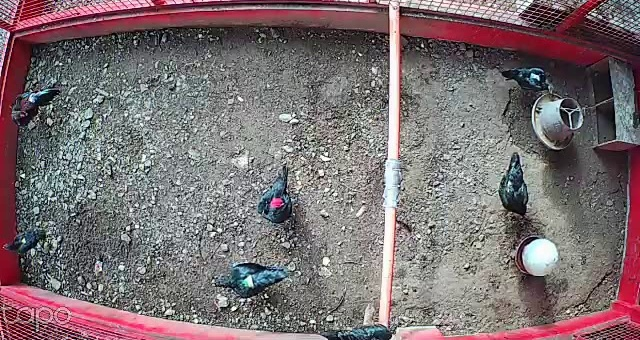Chicken: (208, 257, 289, 302), (252, 157, 300, 222), (497, 147, 533, 230), (496, 60, 558, 104), (307, 322, 406, 340)
Saddle_Color_Red: (268, 199, 285, 208)
Saddle_Color_YellowGreen: (239, 274, 255, 291)
